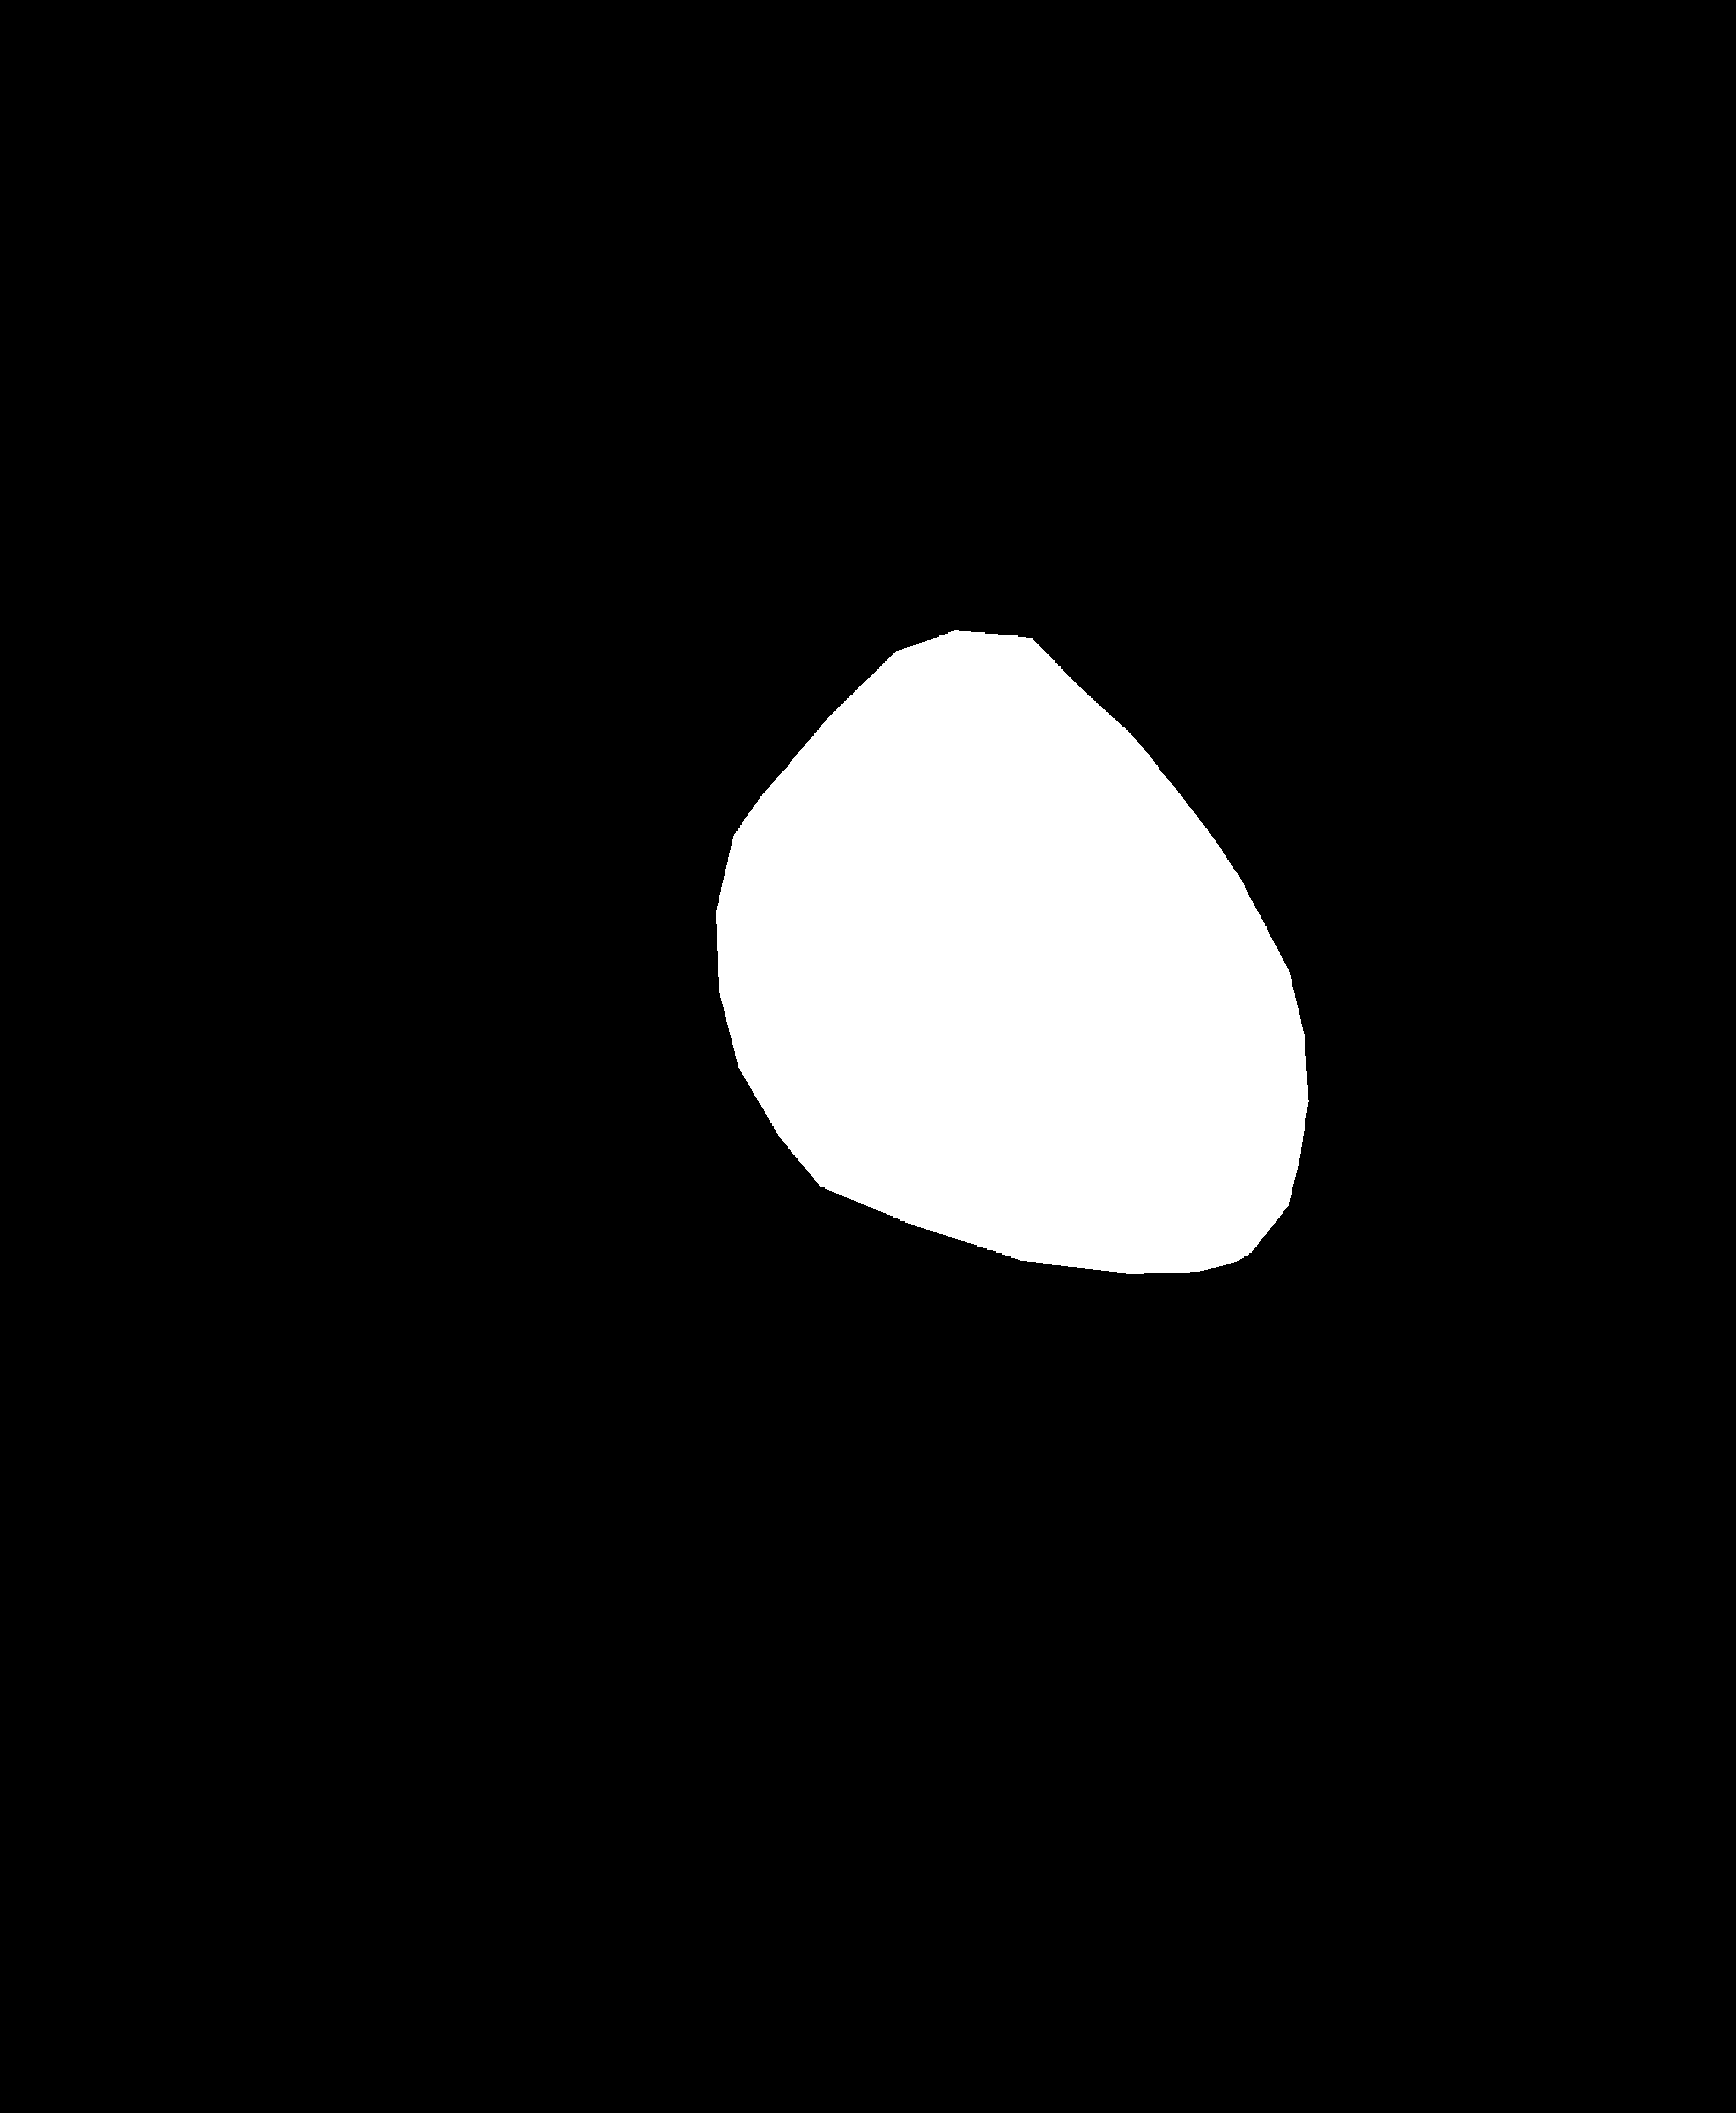heart: (721, 655, 1306, 1274)
left_lung: (239, 156, 816, 1550)
right_lung: (913, 128, 1543, 1444)
